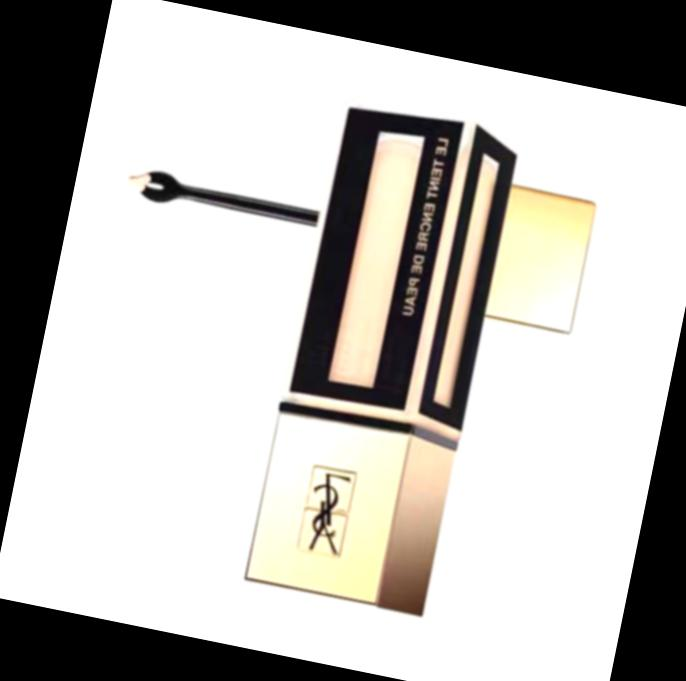cosmetic: (245, 93, 526, 616)
